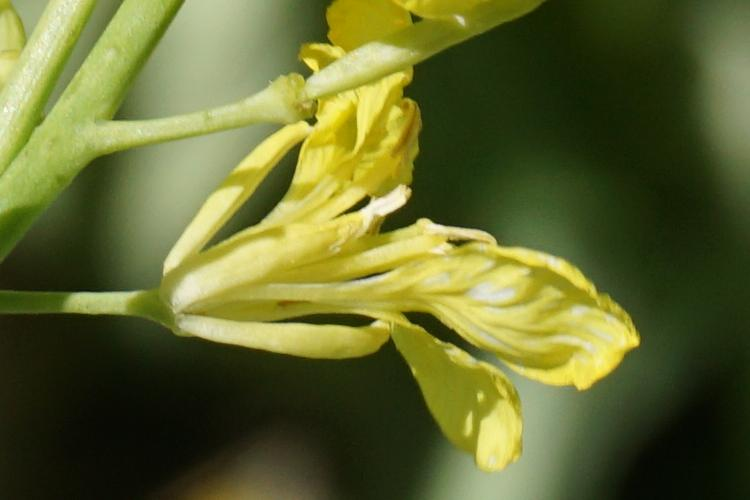yellow: (168, 82, 650, 453)
